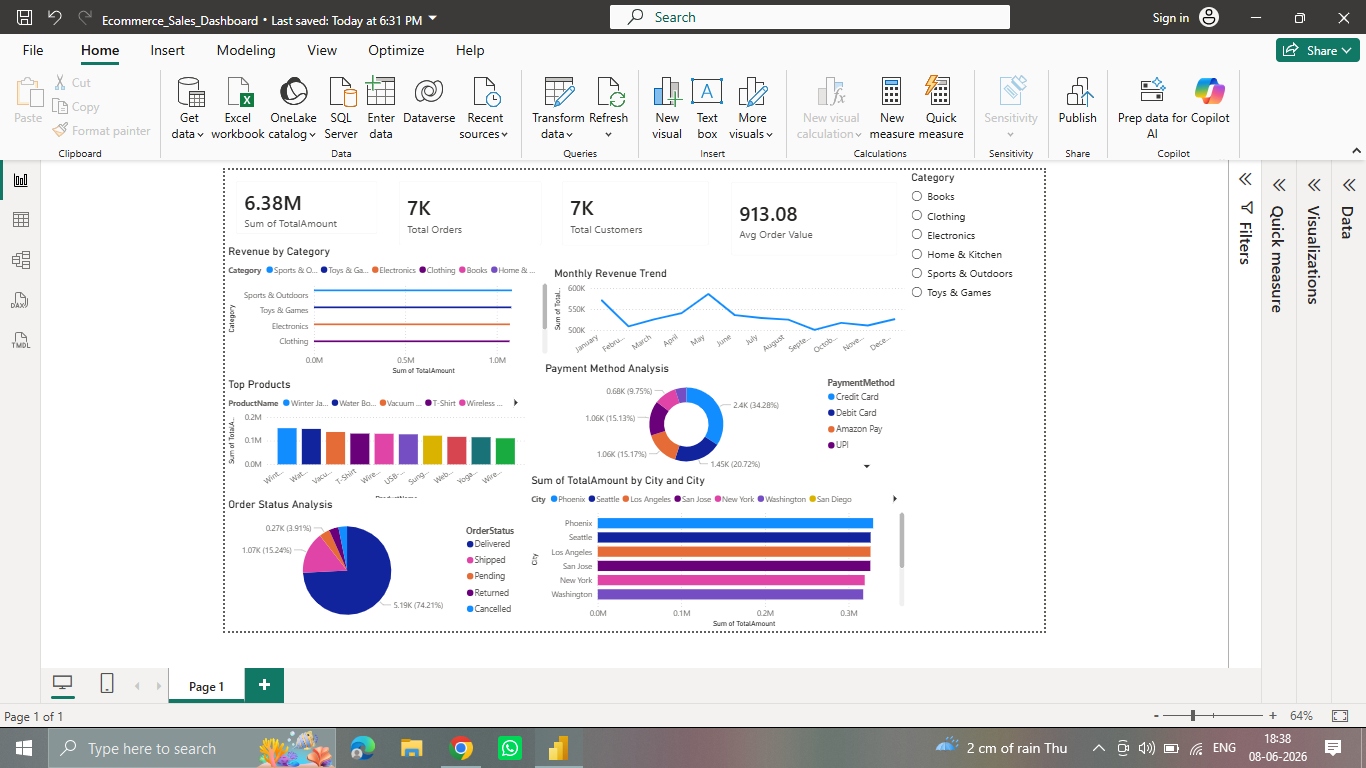

Layout of this report page (visuals, bound fields, positions):
{"tool":"powerbi","page":{"name":"Page 1","canvas":[1280,720],"ordinal":0},"visuals":[{"type":"cardVisual","fields":{"Data":["Sum(amazon_data.TotalAmount)"]},"box":[0,0,255.3,118],"z":0},{"type":"cardVisual","fields":{"Data":["amazon_data.Total Orders"]},"box":[255.3,0,257.1,135.6],"z":1000},{"type":"cardVisual","fields":{"Data":["amazon_data.Total Customers"]},"box":[508.8,0,264.1,135.6],"z":2000},{"type":"cardVisual","fields":{"Data":["amazon_data.Avg Order Value"]},"box":[772.9,1.8,294,149.7],"z":3000},{"type":"clusteredBarChart","title":"Revenue by Category","fields":{"Category":["amazon_data.Category"],"Y":["Sum(amazon_data.TotalAmount)"],"Series":["amazon_data.Category"]},"box":[0,118,508.8,207.8],"z":4000},{"type":"columnChart","title":"Top Products","fields":{"Y":["Sum(amazon_data.TotalAmount)"],"Category":["amazon_data.ProductName"],"Series":["amazon_data.ProductName"]},"box":[0,325.7,473.6,199],"z":5000},{"type":"lineChart","title":"Monthly Revenue Trend","fields":{"Y":["Sum(amazon_data.TotalAmount)"],"Category":["amazon_data.OrderDate.Variation.Date Hierarchy.Month"]},"box":[508.8,151.4,558.1,147.9],"z":6000},{"type":"donutChart","title":"Payment Method Analysis","fields":{"Y":["CountNonNull(amazon_data.OrderID)"],"Category":["amazon_data.PaymentMethod"]},"box":[494.7,299.3,572.2,176.1],"z":7000},{"type":"pieChart","title":"Order Status Analysis","fields":{"Category":["amazon_data.OrderStatus"],"Y":["CountNonNull(amazon_data.OrderID)"]},"box":[0,512.4,473.6,207.8],"z":8000},{"type":"barChart","fields":{"Category":["amazon_data.City"],"Y":["Sum(amazon_data.TotalAmount)"],"Series":["amazon_data.City"]},"box":[473.6,475.4,593.3,244.7],"z":9000},{"type":"listSlicer","fields":{"Values":["amazon_data.Category"]},"box":[1067,1.4,213.1,718.6],"z":10000}]}

Visuals, with their boxes on the page's 1280x720 design canvas (x1, y1, x2, y2). These are canvas units, not pixel positions in the 1366x768 screenshot, which may show the page scaled, cropped or inside an application window:
cardVisual - Sum(amazon_data.TotalAmount): {"left": 0, "top": 0, "right": 255, "bottom": 118}
cardVisual - amazon_data.Total Orders: {"left": 255, "top": 0, "right": 512, "bottom": 136}
cardVisual - amazon_data.Total Customers: {"left": 509, "top": 0, "right": 773, "bottom": 136}
cardVisual - amazon_data.Avg Order Value: {"left": 773, "top": 2, "right": 1067, "bottom": 152}
"Revenue by Category" clusteredBarChart: {"left": 0, "top": 118, "right": 509, "bottom": 326}
"Top Products" columnChart: {"left": 0, "top": 326, "right": 474, "bottom": 525}
"Monthly Revenue Trend" lineChart: {"left": 509, "top": 151, "right": 1067, "bottom": 299}
"Payment Method Analysis" donutChart: {"left": 495, "top": 299, "right": 1067, "bottom": 475}
"Order Status Analysis" pieChart: {"left": 0, "top": 512, "right": 474, "bottom": 720}
barChart - amazon_data.City x Sum(amazon_data.TotalAmount): {"left": 474, "top": 475, "right": 1067, "bottom": 720}
listSlicer - amazon_data.Category: {"left": 1067, "top": 1, "right": 1280, "bottom": 720}
